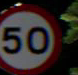Speed limit: (1, 3, 61, 74)
